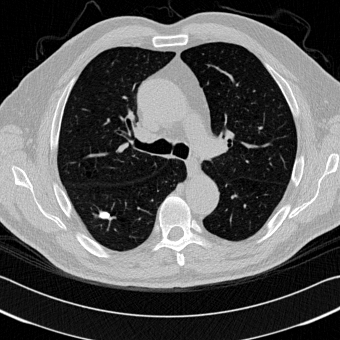nodule: (97, 209, 109, 221)
